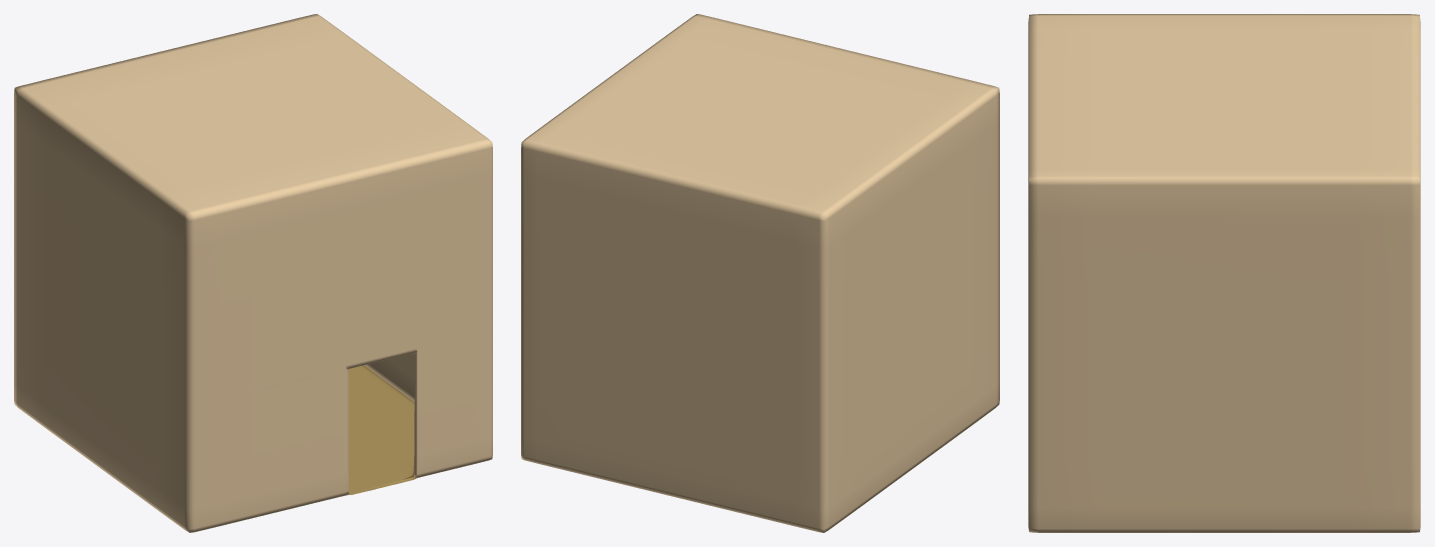
File: Room Timry Outside 1.fbx
3 renders of one model, left to right at view 1: azimuth 30°, elevation 25°; view 2: azimuth 150°, elevation 25°; view 3: azimuth 270°, elevation 25°, orthographic. The views are drawn at different scales.
Parts seen in each view (by area): view 1: Cube.009; view 2: Cube.009; view 3: Cube.009.
Boxes of the visible parts, bbox=[...] form: Cube.009: bbox=[14, 14, 492, 532]; Cube.009: bbox=[521, 14, 999, 532]; Cube.009: bbox=[1028, 14, 1420, 532].
Size of the model in its own units: 4012 by 4012 by 4012.
